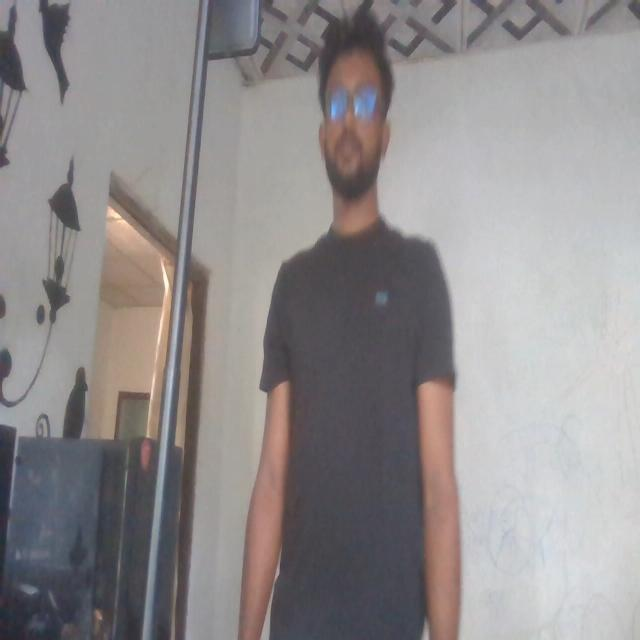Person: (248, 0, 454, 640)
